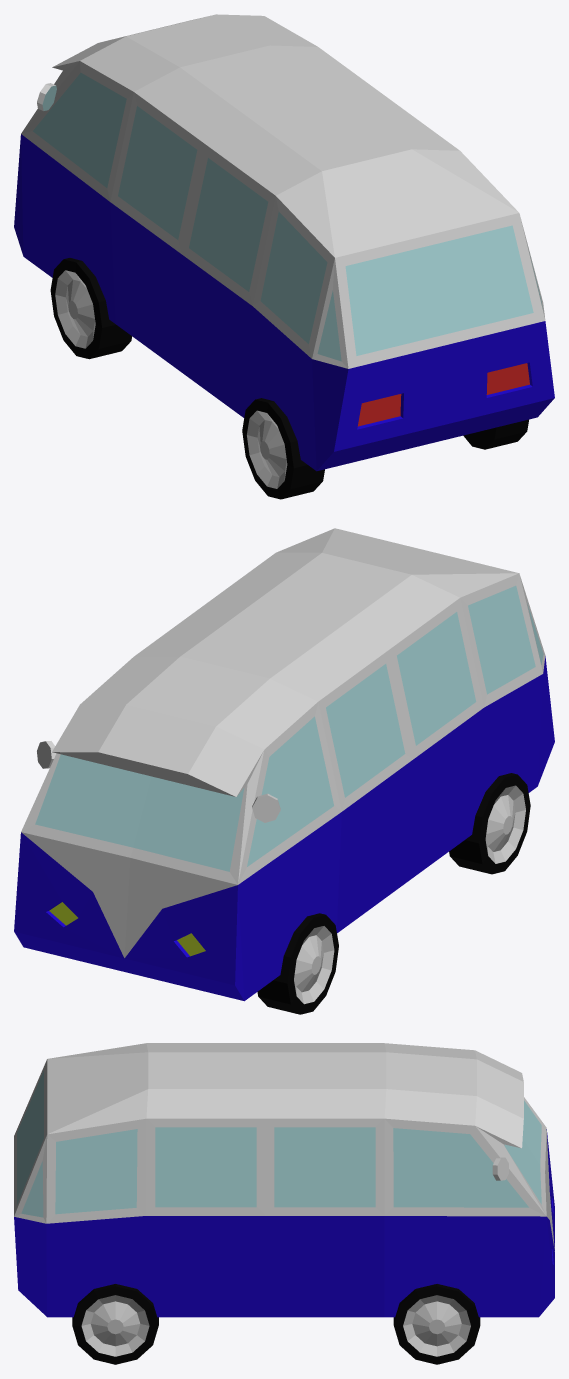
Rendered from CarroDaPamonha.fbx.
3 views of the same model, one above another, from view 1: azimuth 30°, elevation 25°; view 2: azimuth 150°, elevation 25°; view 3: azimuth 270°, elevation 25° (orthographic). The views are drawn at different scales.
Parts seen in each view (by area): view 1: Carro da pamonha; view 2: Carro da pamonha; view 3: Carro da pamonha.
Part boxes in pixels (x1,y1,x2,y2): Carro da pamonha: (14, 14, 554, 499); Carro da pamonha: (14, 528, 554, 1014); Carro da pamonha: (14, 1043, 554, 1364).
Size of the model in its own units: 264 by 303 by 606.
